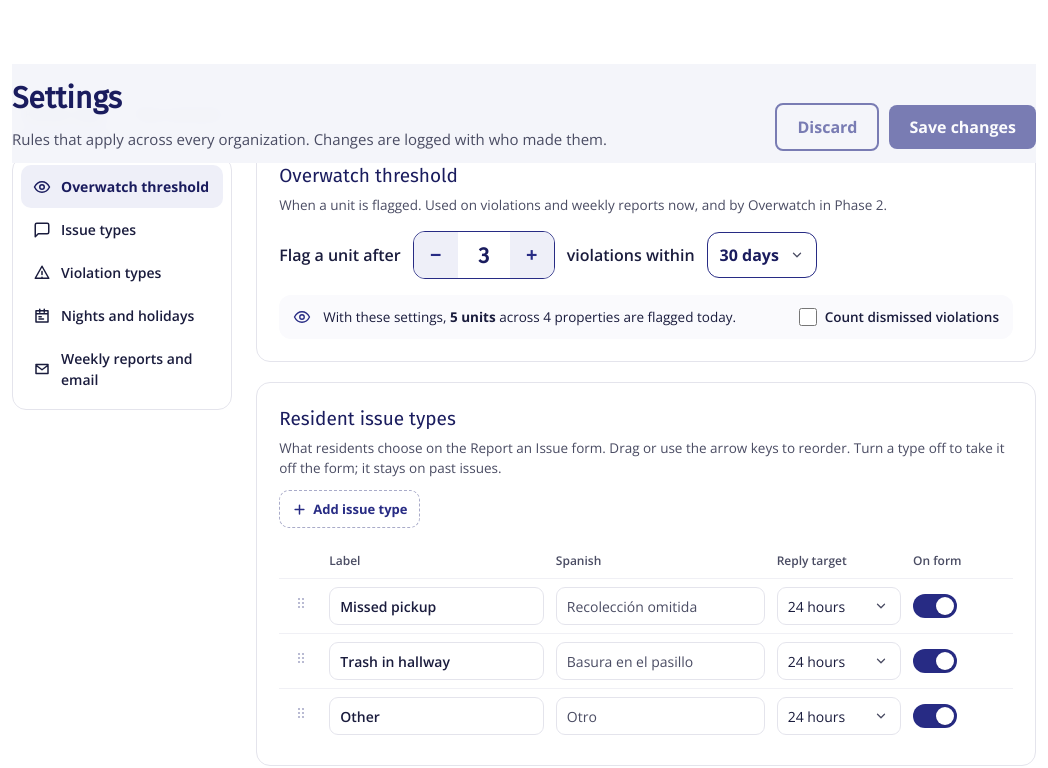
it: SettingsPage › previews the threshold live and saves only what changed
The image size is (1048, 768).
expect the text "across 4 properties are flagged today" is shown: met, box [323,307,787,327]
expect the button "Save changes" is disabled: met, box [889,105,1036,149]
Click the button named "More violations" at [532, 255], box [510,232,554,278]
(page scrolled)
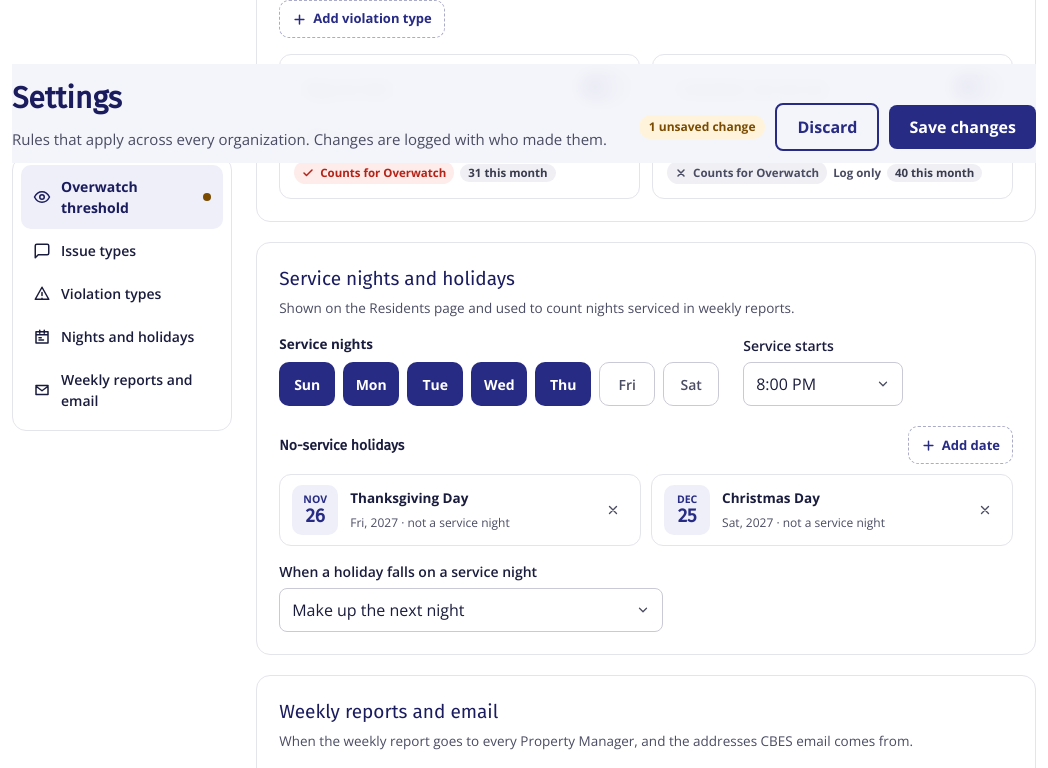
expect the text "1 unsaved change" is shown: met, box [639,115,766,139]
Click the checkbox named "Friday" at [627, 384], box [599,362,655,406]
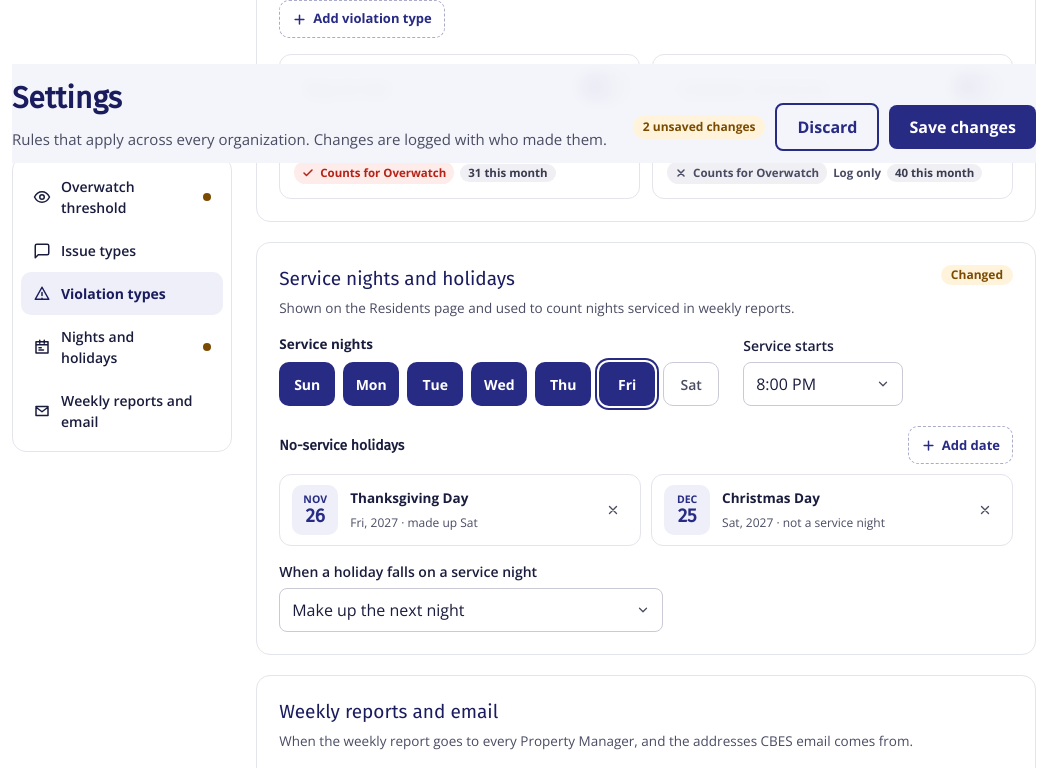
Click the button named "Remove Christmas Day" at [985, 510], box [970,495,1000,525]
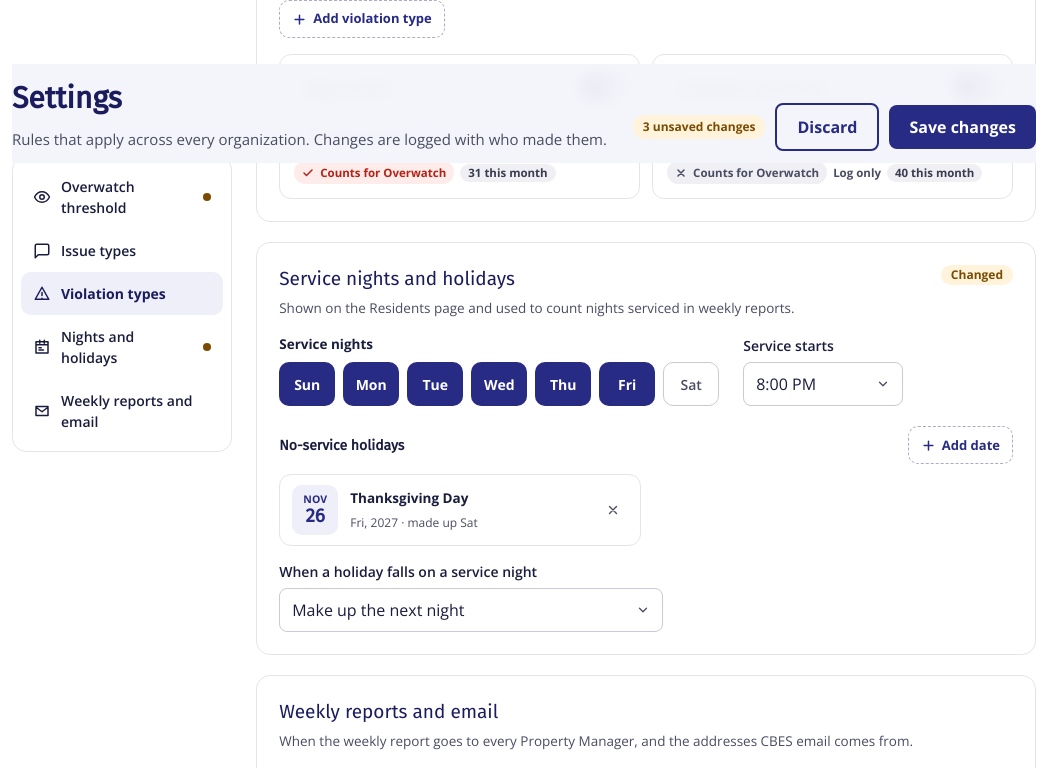
expect the text "3 unsaved changes" is shown: met, box [633,115,765,139]
Click the button "Save changes" at [963, 127], box [889,105,1036,149]
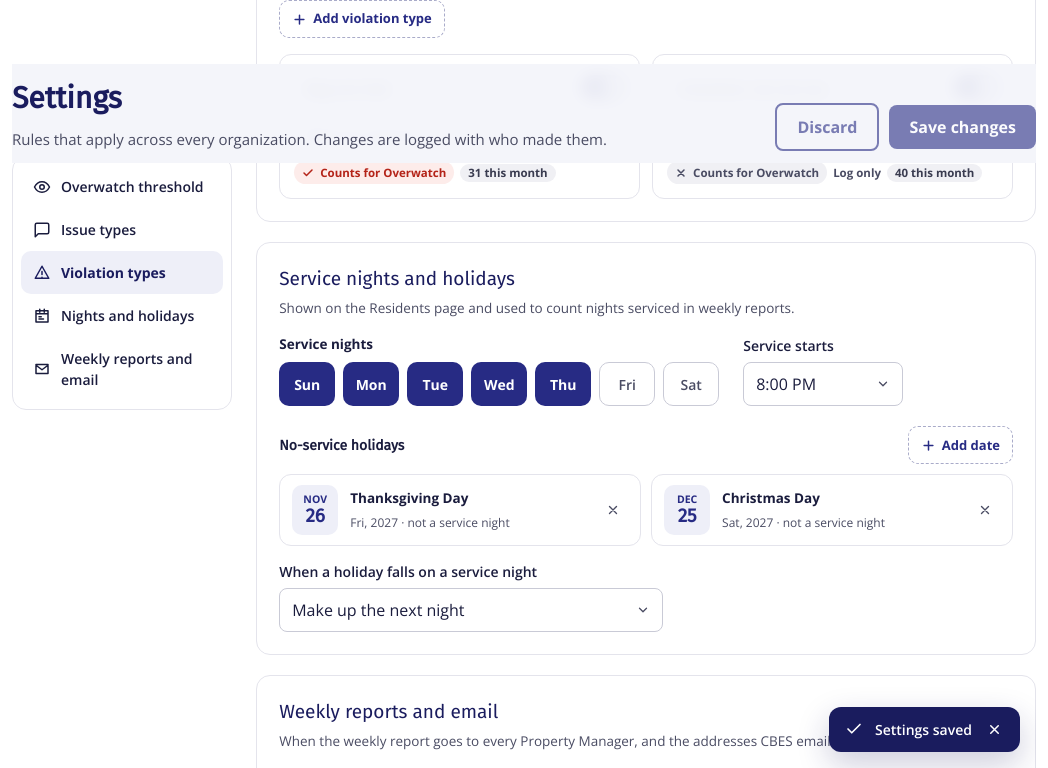
expect the text "Settings saved" is shown: met, box [875,719,972,740]
